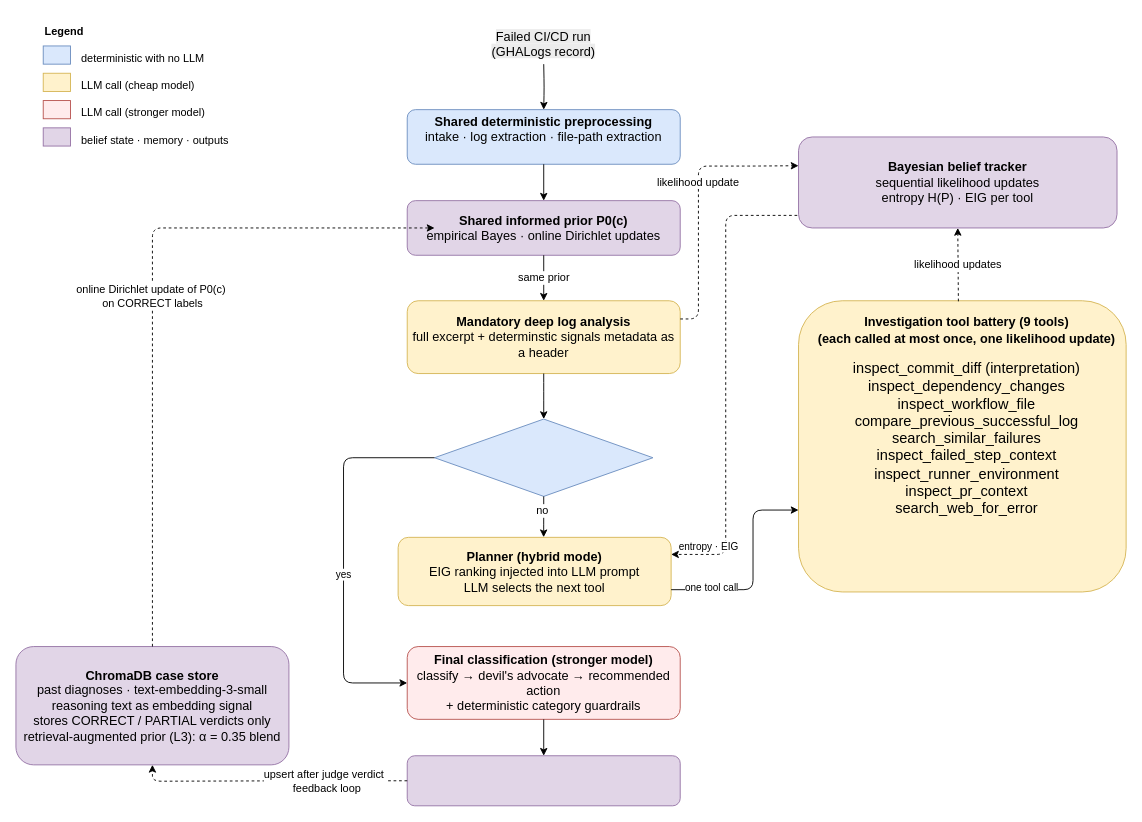
Some shapes in this 1142 by 822 pixel diagram are drawn without their labels. Each missing label, with the centre of its shape:
APA diagnosis category · severity · confidence · reasoning · action: the point at 543,780
H(P) < 1.0 bit or step ≥ 7: the point at 543,457
